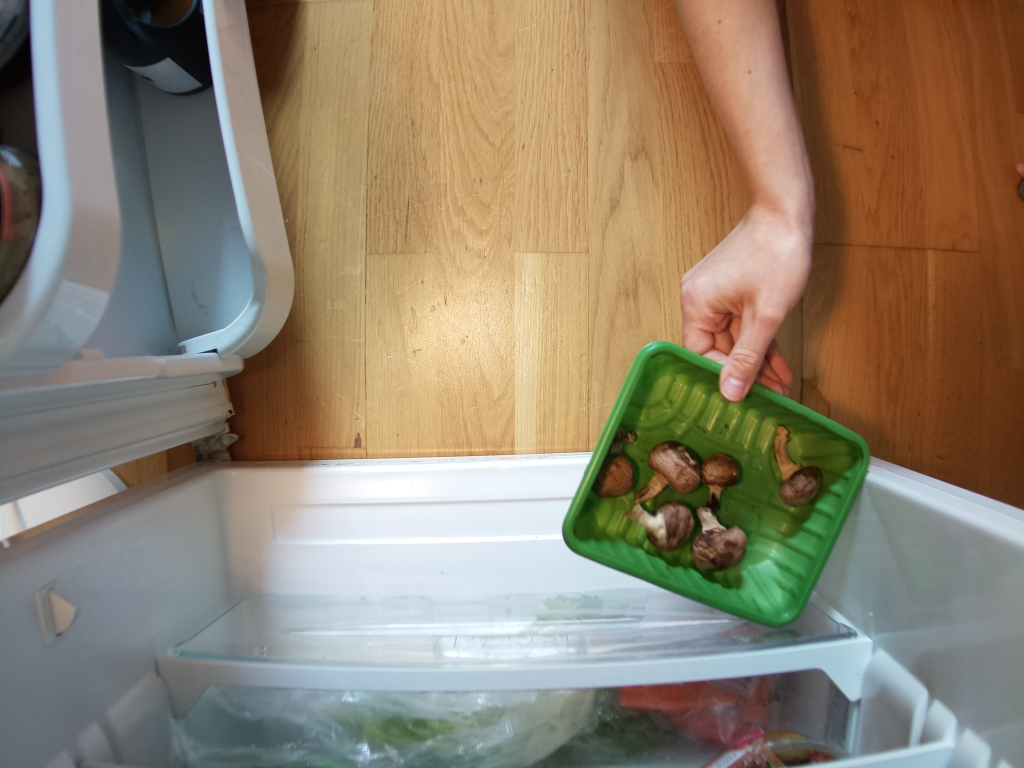mushrooms-bad: (564, 335, 873, 639)
